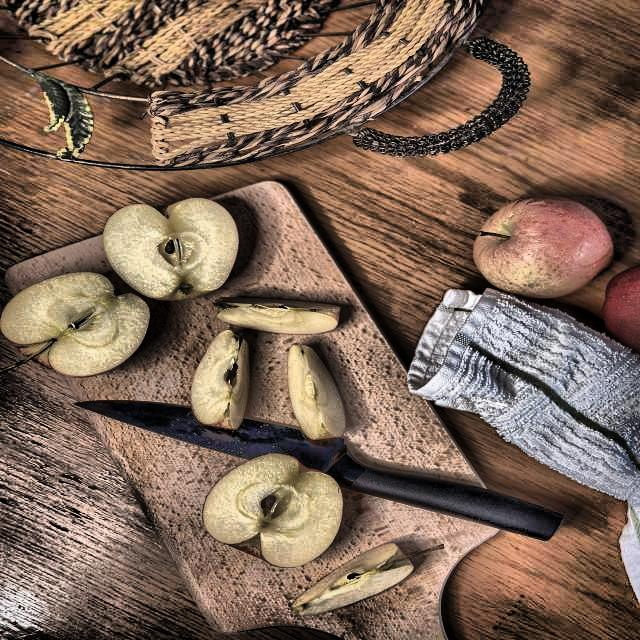knife: (79, 392, 574, 541)
